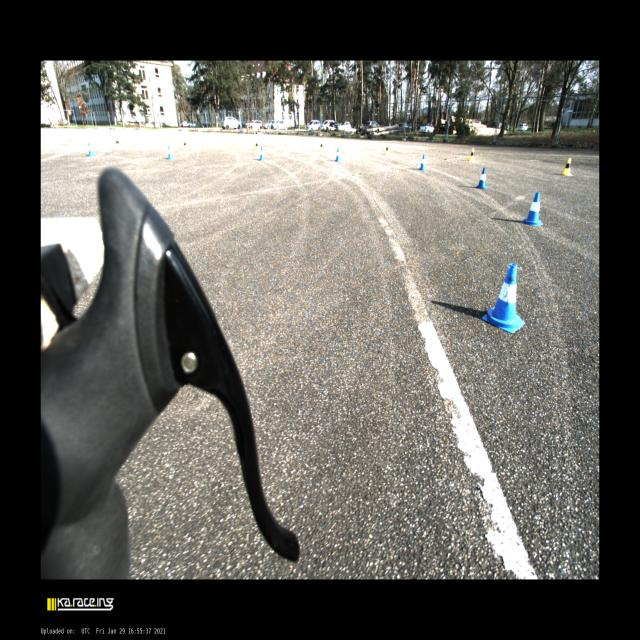blue_cone: (482, 263, 525, 333), (520, 192, 544, 226), (475, 168, 488, 190), (87, 141, 96, 157), (419, 154, 427, 170), (335, 147, 342, 162), (259, 146, 265, 161), (168, 145, 174, 159)
yellow_cone: (562, 158, 573, 176), (469, 147, 476, 162), (113, 136, 121, 148), (384, 144, 390, 156), (183, 140, 189, 151), (254, 141, 260, 151), (319, 142, 324, 152)
